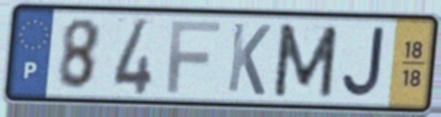4: (111, 14, 157, 98)
8: (56, 15, 103, 93)
F: (164, 19, 223, 96)
J: (339, 24, 387, 101)
K: (224, 19, 274, 99)
M: (270, 21, 341, 100)
